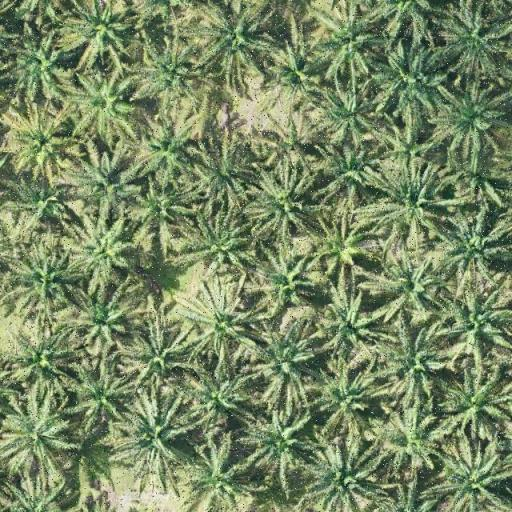Ganoderma: (14, 118, 64, 166)
